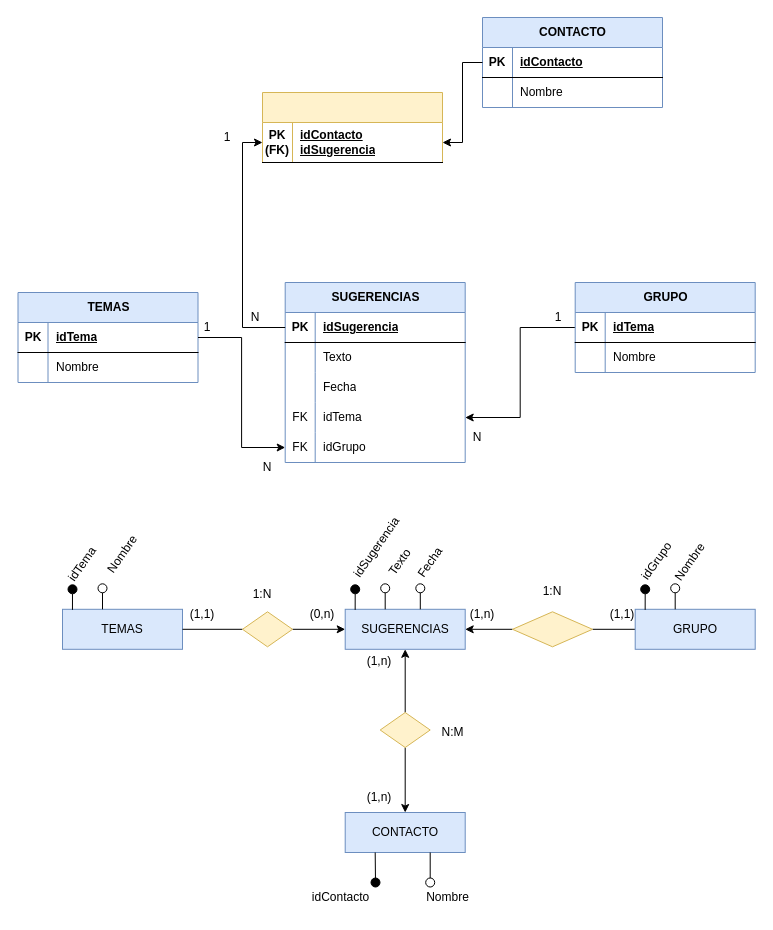
Image size: 773x930. Some labels were removed from this diagram. The shapes that lost their labels are listed below. From the top down, each one's box as (x1, y1, x2, y2) in pixels, then its label:
(262, 92, 442, 162): sugerencia_contacto
(242, 611, 292, 647): tiene
(512, 611, 592, 647): pertenece
(379, 712, 430, 748): forma
